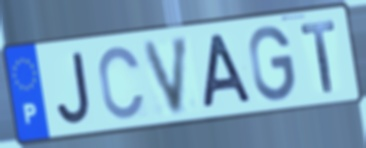A: (201, 31, 255, 111)
C: (96, 43, 147, 122)
G: (247, 24, 298, 105)
J: (55, 49, 94, 127)
T: (297, 17, 338, 95)
V: (140, 32, 193, 118)
